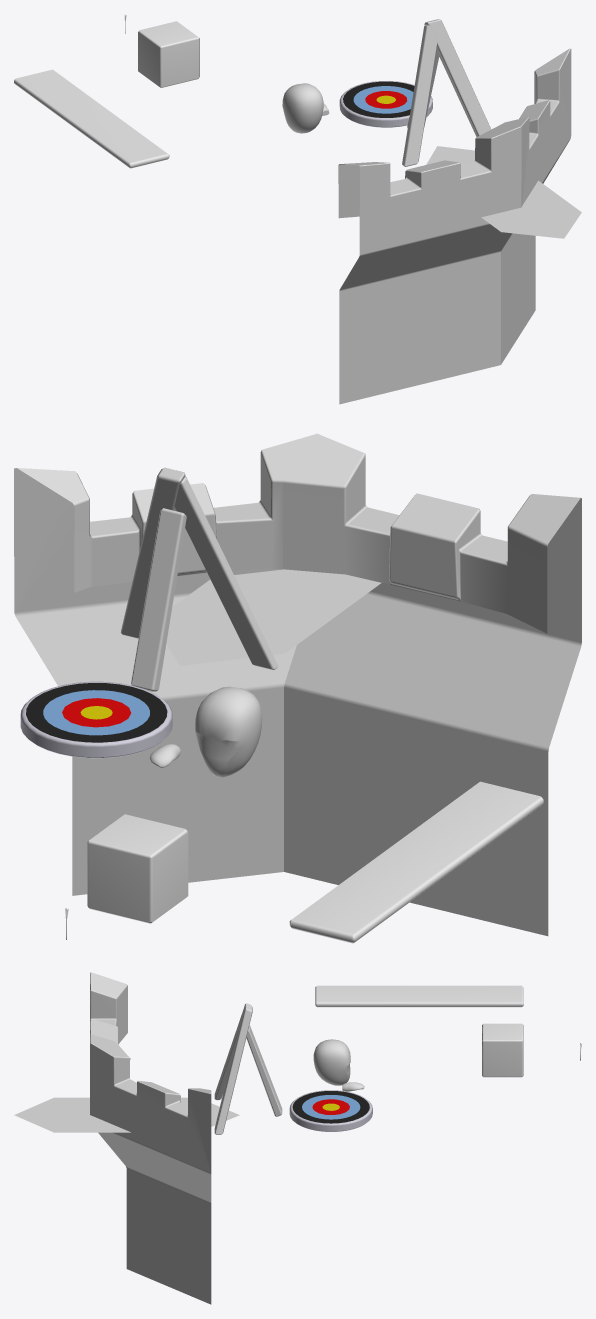
The model's file is models.fbx.
The picture shows the model from 3 angles, top to bottom: view 1: azimuth 30°, elevation 25°; view 2: azimuth 150°, elevation 25°; view 3: azimuth 270°, elevation 25°; orthographic projection. The views are drawn at different scales.
Parts seen in each view (by area): view 1: TowerWall_Straight_a, TowerWall_Curve_a, Board, ArcheryTarget_Stand, TowerFloor, Cube, ArcheryTarget, Head; view 2: TowerWall_Straight_a, TowerWall_Curve_a, Board, ArcheryTarget_Stand, TowerFloor, ArcheryTarget, Cube, Head; view 3: TowerWall_Curve_a, Board, ArcheryTarget, TowerFloor, ArcheryTarget_Stand, TowerWall_Straight_a, Cube, Head.
Part boxes in pixels (x1=…): TowerWall_Straight_a: x1=338, y1=124, x2=521, y2=404; TowerWall_Curve_a: x1=501, y1=48, x2=571, y2=364; Board: x1=14, y1=69, x2=169, y2=168; ArcheryTarget_Stand: x1=402, y1=19, x2=491, y2=166; TowerFloor: x1=426, y1=146, x2=581, y2=238; Cube: x1=138, y1=21, x2=199, y2=87; ArcheryTarget: x1=339, y1=81, x2=432, y2=127; Head: x1=282, y1=83, x2=323, y2=133; TowerWall_Straight_a: x1=283, y1=433, x2=581, y2=936; TowerWall_Curve_a: x1=14, y1=434, x2=315, y2=895; Board: x1=289, y1=781, x2=543, y2=943; ArcheryTarget_Stand: x1=121, y1=467, x2=278, y2=691; TowerFloor: x1=166, y1=569, x2=381, y2=665; ArcheryTarget: x1=20, y1=681, x2=172, y2=758; Cube: x1=87, y1=814, x2=188, y2=923; Head: x1=195, y1=686, x2=262, y2=777; TowerWall_Curve_a: x1=90, y1=1043, x2=211, y2=1304; Board: x1=315, y1=985, x2=523, y2=1007; ArcheryTarget: x1=289, y1=1090, x2=372, y2=1131; TowerFloor: x1=14, y1=1097, x2=239, y2=1132; ArcheryTarget_Stand: x1=214, y1=1003, x2=282, y2=1134; TowerWall_Straight_a: x1=90, y1=972, x2=127, y2=1054; Cube: x1=482, y1=1023, x2=523, y2=1077; Head: x1=313, y1=1039, x2=350, y2=1085.
Size of the model in its own units: 948 by 698 by 1364.
